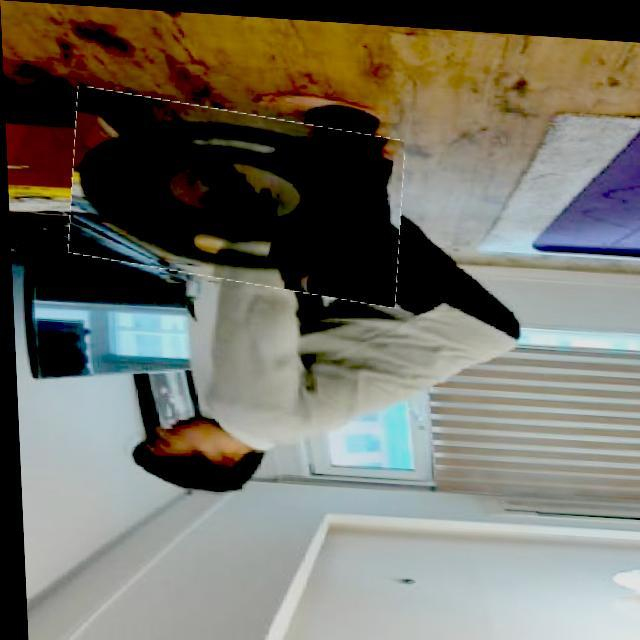barbell: (65, 93, 406, 296)
